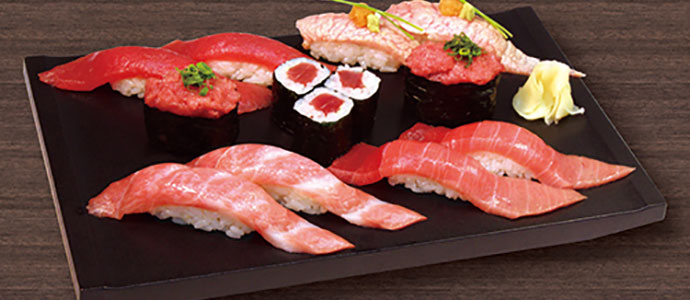medium-fatty-tuna: (86, 139, 415, 254), (357, 121, 614, 206)
